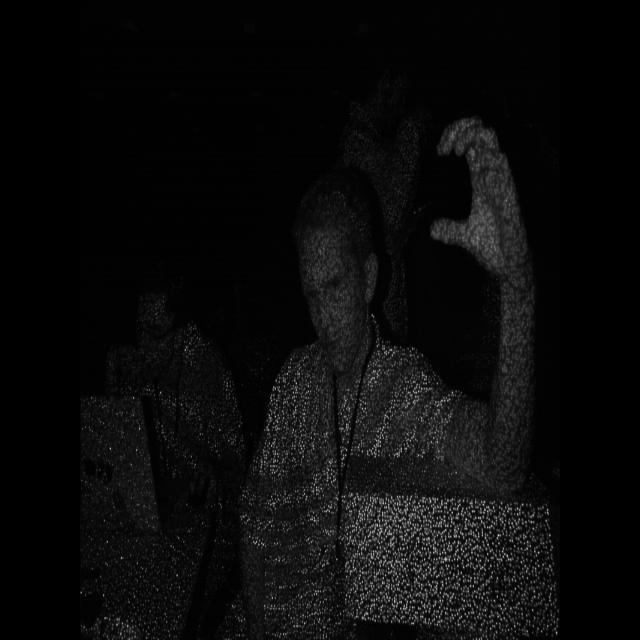C: (425, 105, 553, 295)
